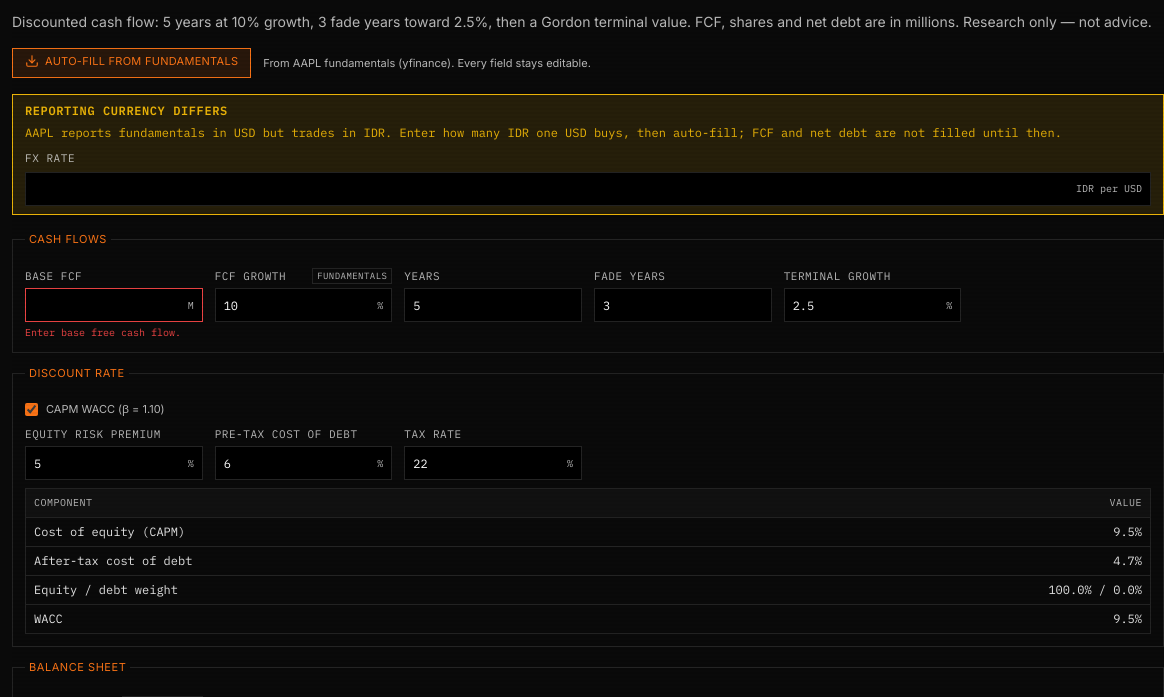
ValuationSection › refuses to mix currencies until an FX rate is entered
Check: the text "Reporting currency differs" is shown, box [25, 103, 228, 118]
Check: the number field labelled "Base FCF" is empty, box [26, 289, 188, 321]
Type "16000" into the number field labelled "FX rate". click: (551, 189)
box: [26, 173, 1076, 205]
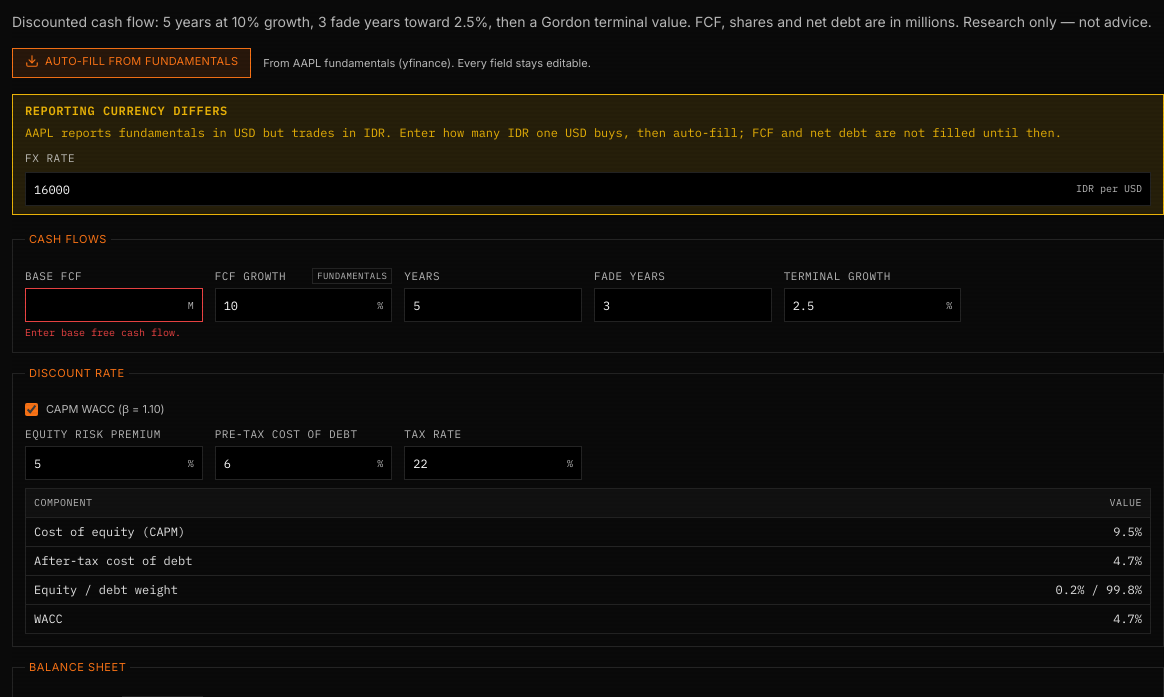
Click the button "Auto-fill from fundamentals". click: (132, 63)
box: [12, 48, 251, 78]
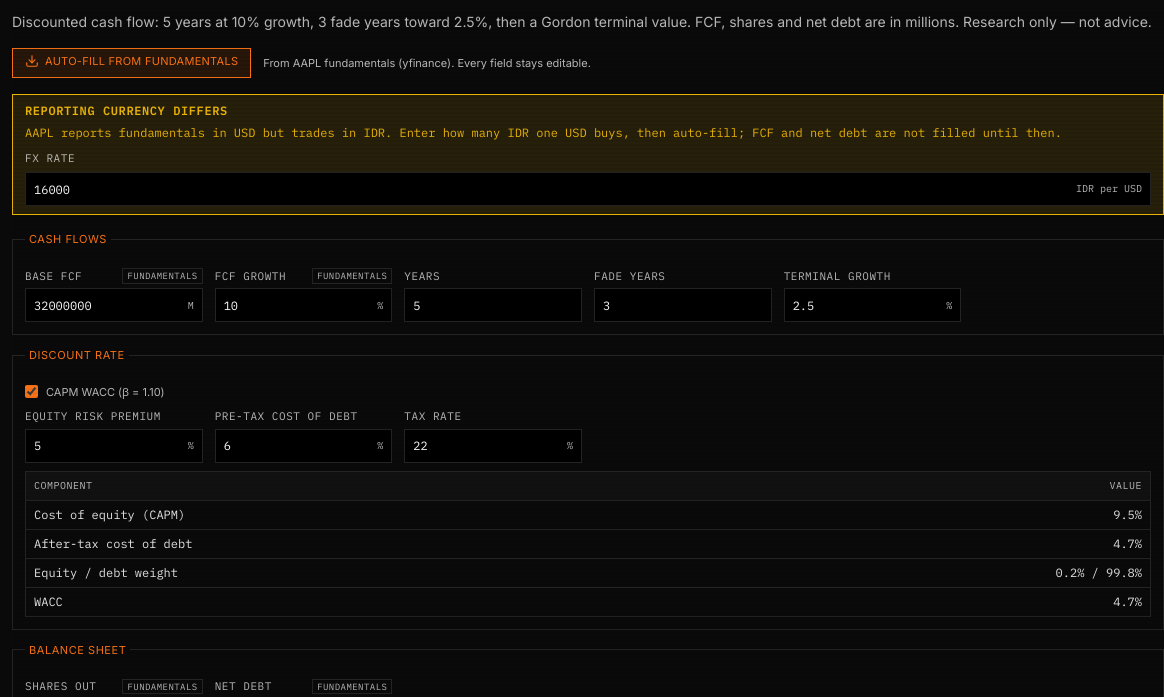
Check: the number field labelled "Base FCF" holds "32000000", box [26, 289, 188, 321]
